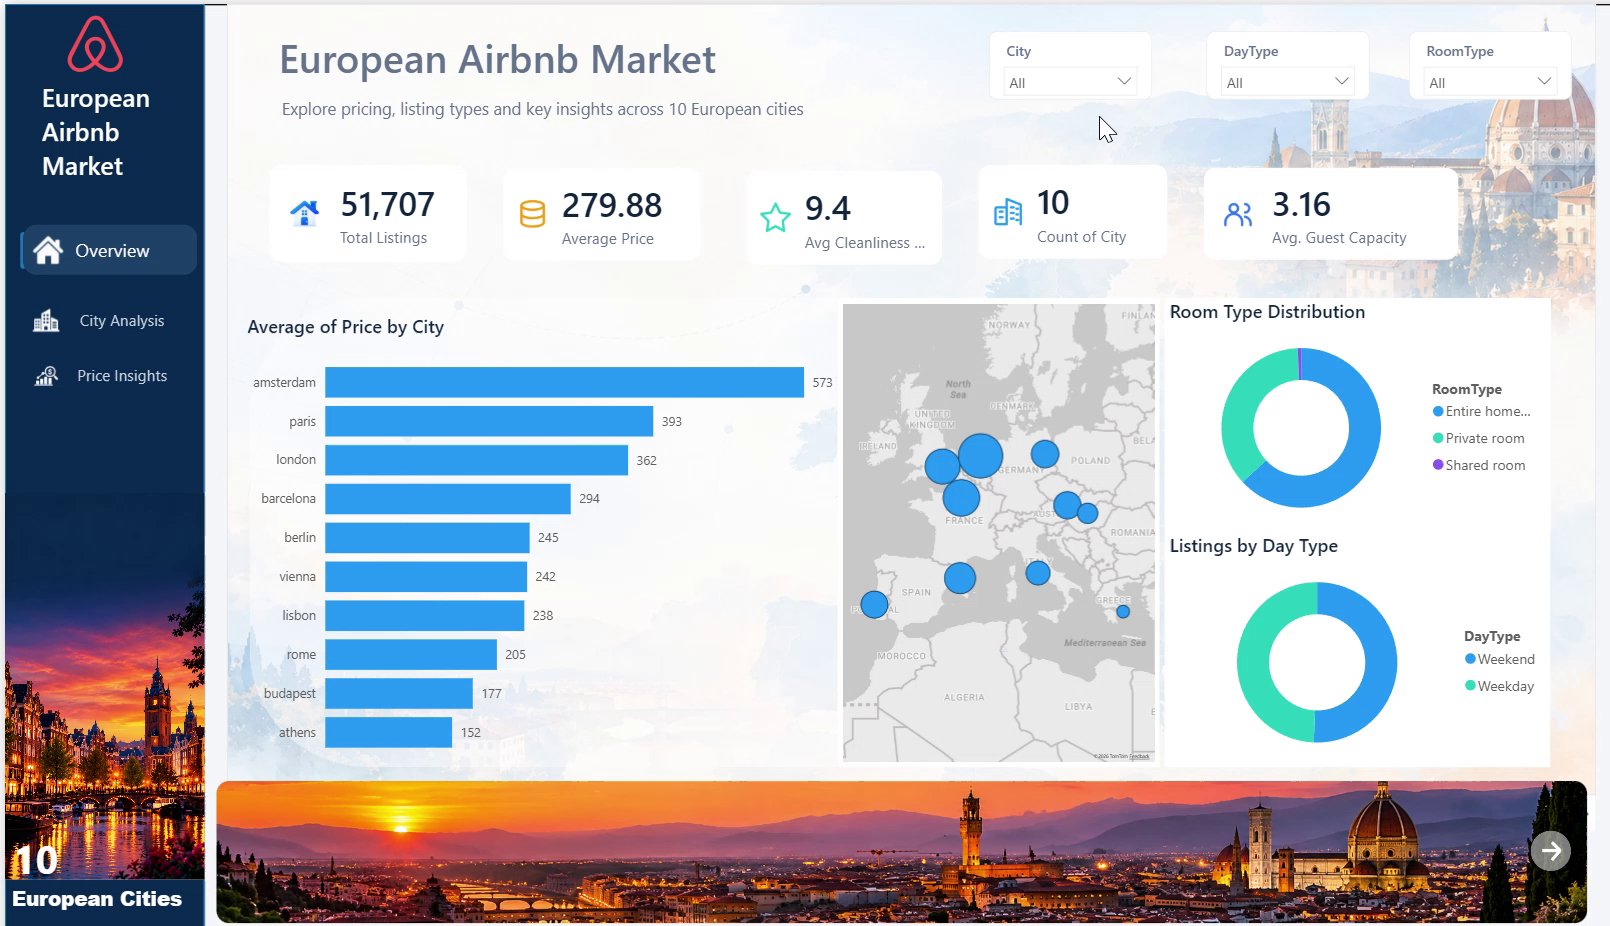

The page's visual inventory and layout, read from the dashboard file:
{"tool":"powerbi","page":{"name":"Overview","canvas":[1600,900],"ordinal":0},"visuals":[{"type":"image","box":[211,0,1304.3,752.9],"z":0},{"type":"shape","box":[233.3,280,866.7,446.7],"z":1000},{"type":"shape","box":[0,0,190,900],"z":2000},{"type":"textbox","box":[30,66.9,128.1,150],"z":3000},{"type":"shape","box":[11.7,216.9,12.1,35],"z":4000},{"type":"actionButton","box":[17.6,209.7,166,48],"z":5000},{"type":"actionButton","box":[17.3,279.3,158.2,44.1],"z":6000},{"type":"actionButton","box":[17.3,331.8,158.2,44.5],"z":7000},{"type":"image","box":[0,465.6,190,367.8],"z":9000},{"type":"textbox","box":[2.2,783.3,56.7,67.8],"z":10000},{"type":"textbox","box":[1.1,833.3,188.9,66.7],"z":11000},{"type":"image","box":[201.2,740,1305,135],"z":12000},{"type":"actionButton","box":[1452.5,787.5,38.8,38.8],"z":13000},{"type":"textbox","box":[255,20,720,68.8],"z":14000},{"type":"textbox","box":[258.3,82.9,535,53.8],"z":15000},{"type":"slicer","fields":{"Values":["Airbnb_Gold_Master.City"]},"box":[936.7,25.4,155,65],"z":16000},{"type":"slicer","fields":{"Values":["Airbnb_Gold_Master.PersonCapacity"]},"box":[1144.2,25.4,155,65],"z":17000},{"type":"slicer","fields":{"Values":["Airbnb_Gold_Master.RoomType"]},"box":[1336.7,25.4,155,65],"z":18000},{"type":"cardVisual","fields":{"Data":["Airbnb_Gold_Master.Total Listings Display"]},"box":[234,136,223,127],"z":19000},{"type":"cardVisual","fields":{"Data":["Airbnb_Gold_Master.Average Price"]},"box":[457,139,222,123],"z":20000},{"type":"cardVisual","fields":{"Data":["Airbnb_Gold_Master.Avg Cleanliness Display"]},"box":[689,142,221,124],"z":21000},{"type":"cardVisual","fields":{"Data":["Count(Airbnb_Gold_Master.City)"]},"box":[910,135.7,214.3,124.3],"z":22000},{"type":"cardVisual","fields":{"Data":["Avg(Airbnb_Gold_Master.PersonCapacity)"]},"box":[1124.3,138.6,277.1,122.9],"z":23000},{"type":"clusteredBarChart","fields":{"Category":["Airbnb_Gold_Master.City"],"Y":["Avg(Airbnb_Gold_Master.Price)"]},"box":[226,294,568,434],"z":24000},{"type":"azureMap","fields":{"Category":["Airbnb_Gold_Master.City"],"Size":["Avg(Airbnb_Gold_Master.Price)"]},"box":[793.3,280,306.7,446.7],"z":25000},{"type":"donutChart","title":"Room Type Distribution","fields":{"Category":["Airbnb_Gold_Master.RoomType"],"Y":["CountNonNull(Airbnb_Gold_Master.FactID)"]},"box":[1104.4,280,367.8,223.3],"z":26000},{"type":"donutChart","title":"Listings by Day Type","fields":{"Category":["Airbnb_Gold_Master.DayType"],"Y":["CountNonNull(Airbnb_Gold_Master.FactID)"]},"box":[1104.3,502.9,367.1,224.3],"z":27000},{"type":"image","box":[30,20,99.1,57.3],"z":27001}]}

Visuals, with their boxes on the page's 1600x900 design canvas (x1, y1, x2, y2). These are canvas units, not pixel positions in the 1610x926 screenshot, which may show the page scaled, cropped or inside an application window:
image: box(211, 0, 1515, 753)
shape: box(233, 280, 1100, 727)
shape: box(0, 0, 190, 900)
textbox: box(30, 67, 158, 217)
shape: box(12, 217, 24, 252)
actionButton: box(18, 210, 184, 258)
actionButton: box(17, 279, 176, 323)
actionButton: box(17, 332, 176, 376)
image: box(0, 466, 190, 833)
textbox: box(2, 783, 59, 851)
textbox: box(1, 833, 190, 900)
image: box(201, 740, 1506, 875)
actionButton: box(1452, 788, 1491, 826)
textbox: box(255, 20, 975, 89)
textbox: box(258, 83, 793, 137)
slicer - Airbnb_Gold_Master.City: box(937, 25, 1092, 90)
slicer - Airbnb_Gold_Master.PersonCapacity: box(1144, 25, 1299, 90)
slicer - Airbnb_Gold_Master.RoomType: box(1337, 25, 1492, 90)
cardVisual - Airbnb_Gold_Master.Total Listings Display: box(234, 136, 457, 263)
cardVisual - Airbnb_Gold_Master.Average Price: box(457, 139, 679, 262)
cardVisual - Airbnb_Gold_Master.Avg Cleanliness Display: box(689, 142, 910, 266)
cardVisual - Count(Airbnb_Gold_Master.City): box(910, 136, 1124, 260)
cardVisual - Avg(Airbnb_Gold_Master.PersonCapacity): box(1124, 139, 1401, 262)
clusteredBarChart - Airbnb_Gold_Master.City x Avg(Airbnb_Gold_Master.Price): box(226, 294, 794, 728)
azureMap - Airbnb_Gold_Master.City x Avg(Airbnb_Gold_Master.Price): box(793, 280, 1100, 727)
"Room Type Distribution" donutChart: box(1104, 280, 1472, 503)
"Listings by Day Type" donutChart: box(1104, 503, 1471, 727)
image: box(30, 20, 129, 77)
